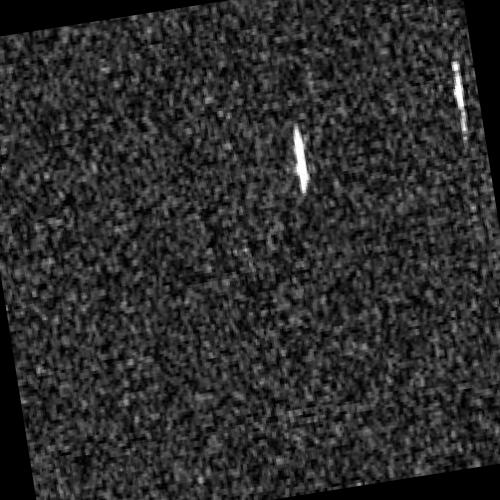ship: (449, 58, 467, 131), (292, 123, 310, 195)
